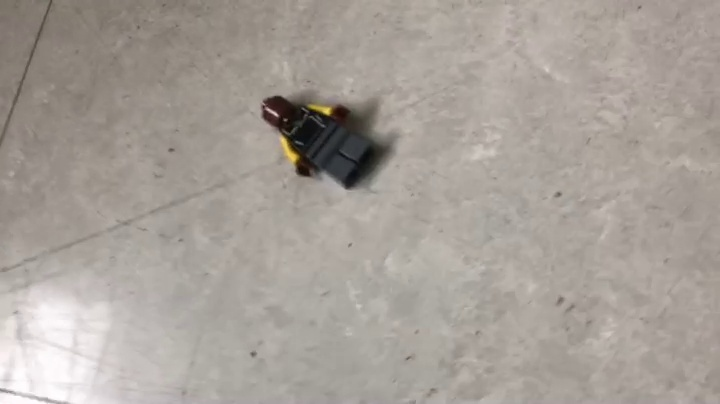people: (260, 95, 382, 191)
